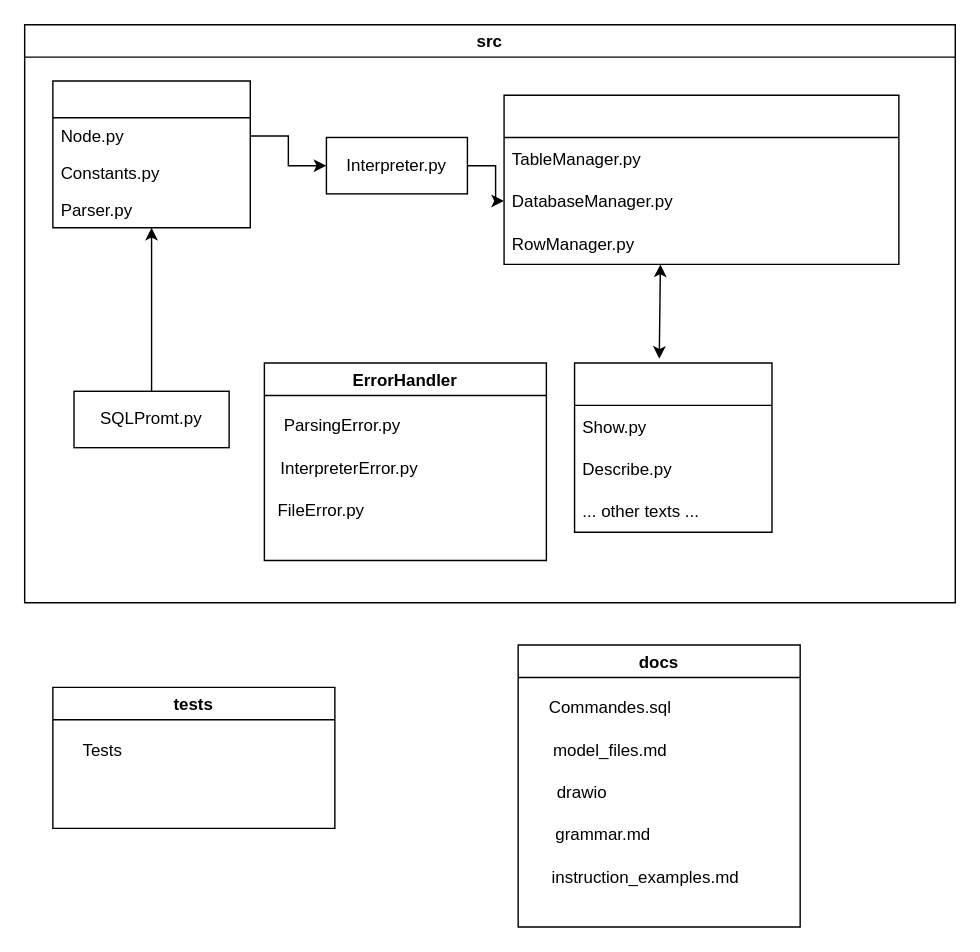
Image size: 980x952. Some labels were removed from this diagram. Each missing label, with the box of its shape:
Parsing: (51, 80, 250, 228)
Print: (573, 362, 772, 532)
Server: (503, 94, 899, 264)
